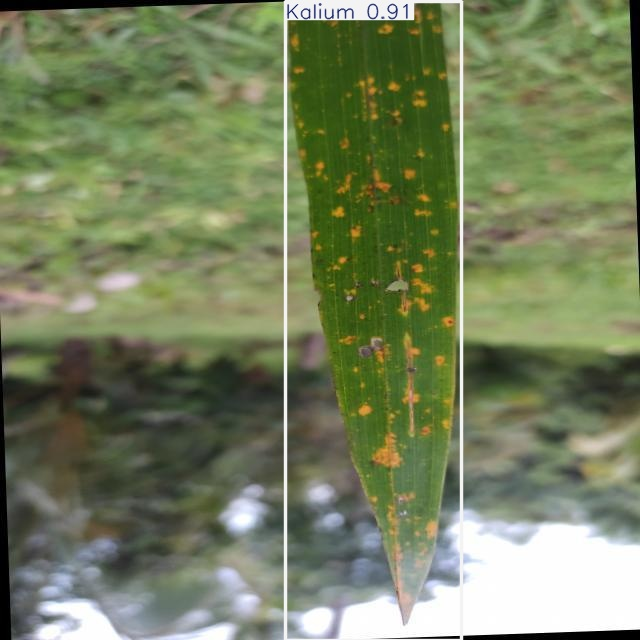Kalium: (286, 1, 462, 640)
